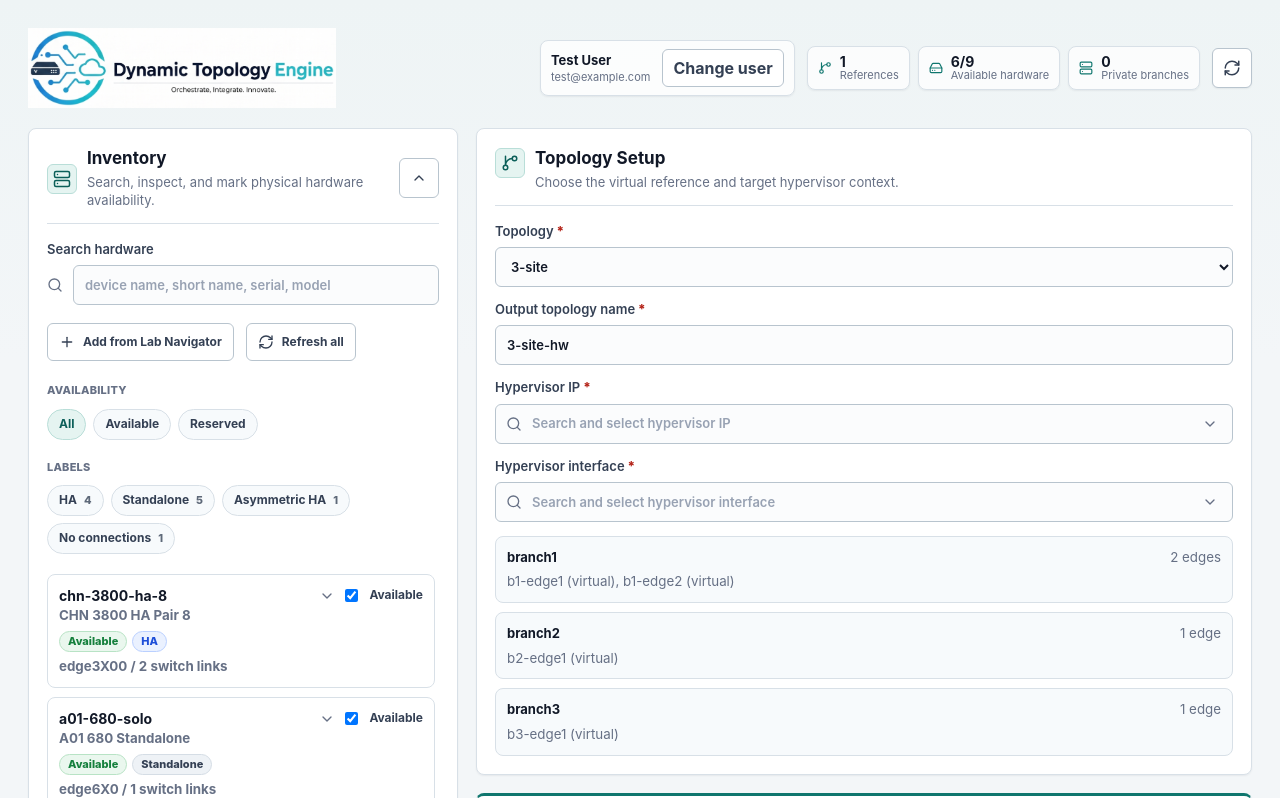
Test: App › filters inventory by derived label chips
Expected: the button "HA 4" is shown, left=47, top=485, right=104, bottom=516
Expected: the button "Standalone 5" is shown, left=110, top=485, right=215, bottom=516
Click the button "Asymmetric HA 1".
click(286, 501)  # box left=222, top=485, right=350, bottom=516
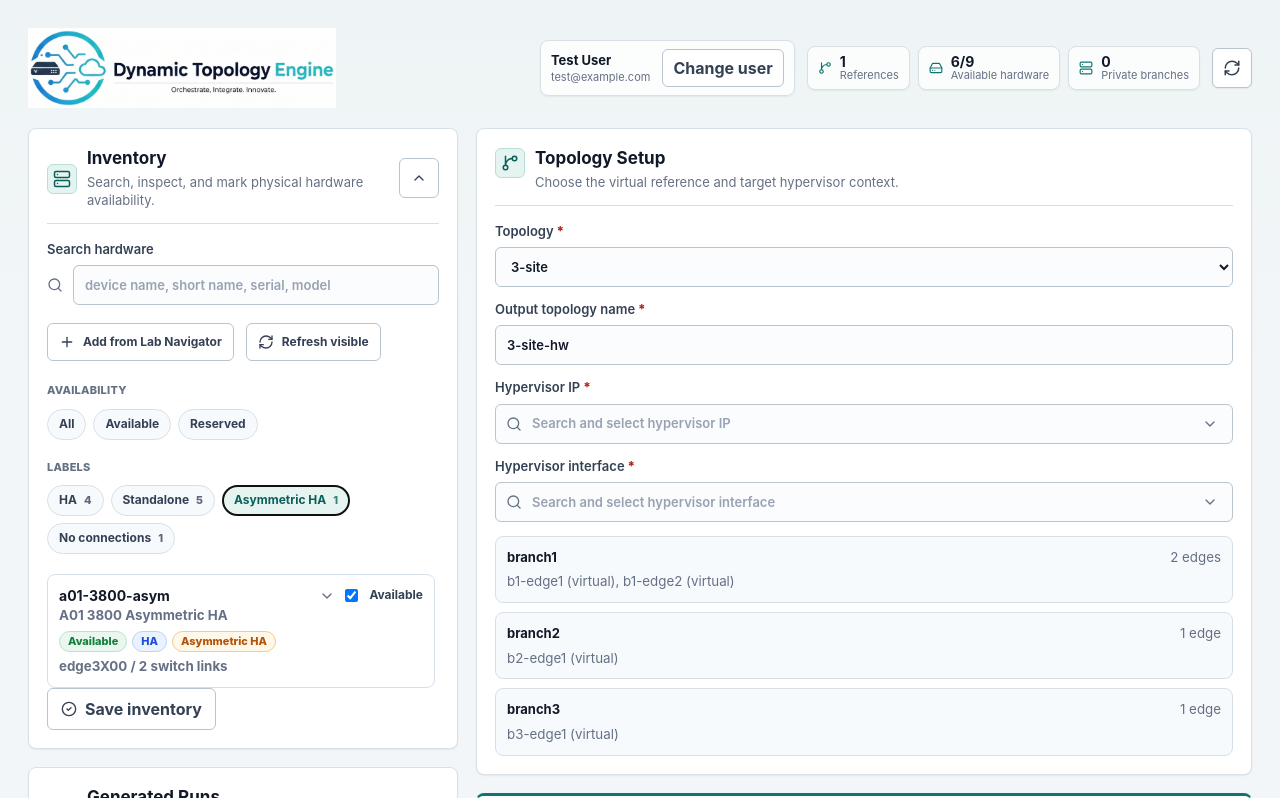
Expected: the text "A01 3800 Asymmetric HA" is shown, left=59, top=607, right=228, bottom=623
Now the button "CHN 3800 HA Pair 8" is gone
Click the button "All".
click(67, 424)  # box left=47, top=409, right=86, bottom=440
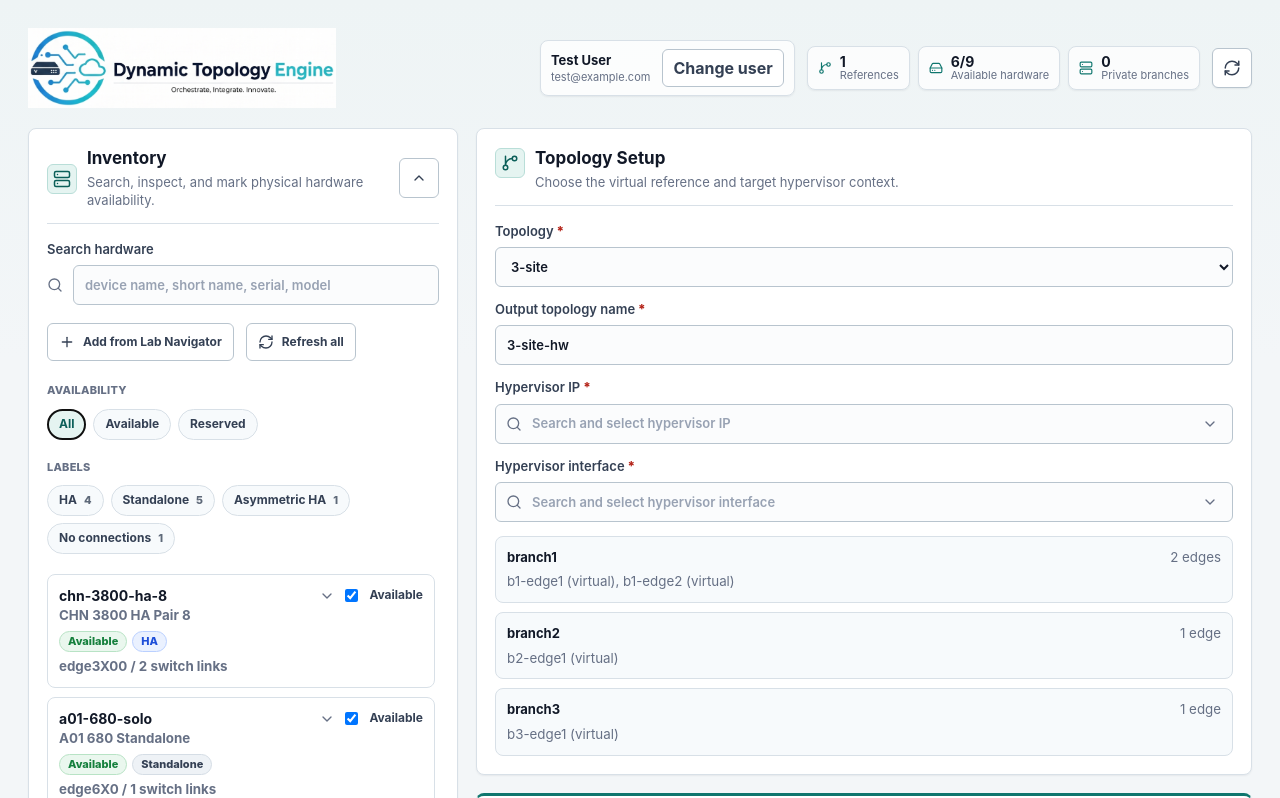
Click the button "No connections 1".
click(111, 539)  # box left=47, top=523, right=175, bottom=554
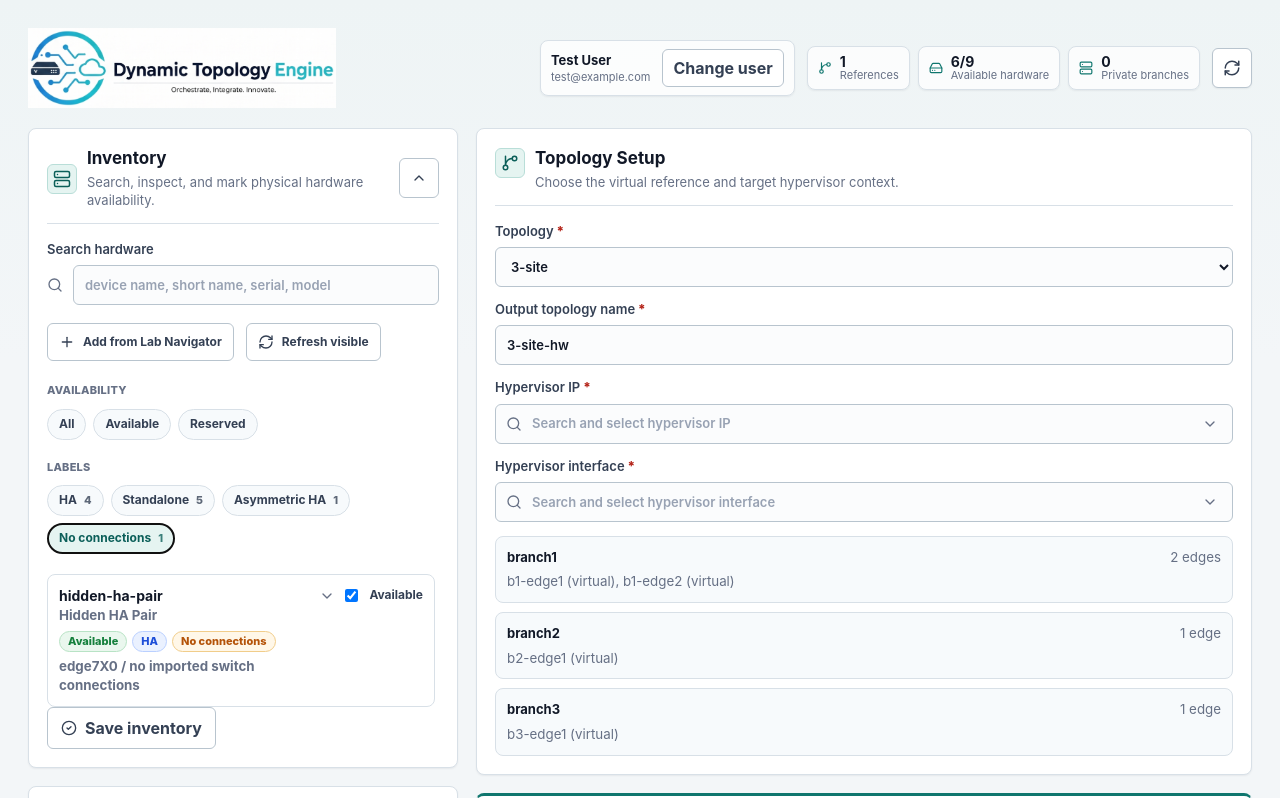
Now the text "Hidden HA Pair" is shown, box left=59, top=607, right=157, bottom=623
Now the button "A01 680 Standalone" is gone
